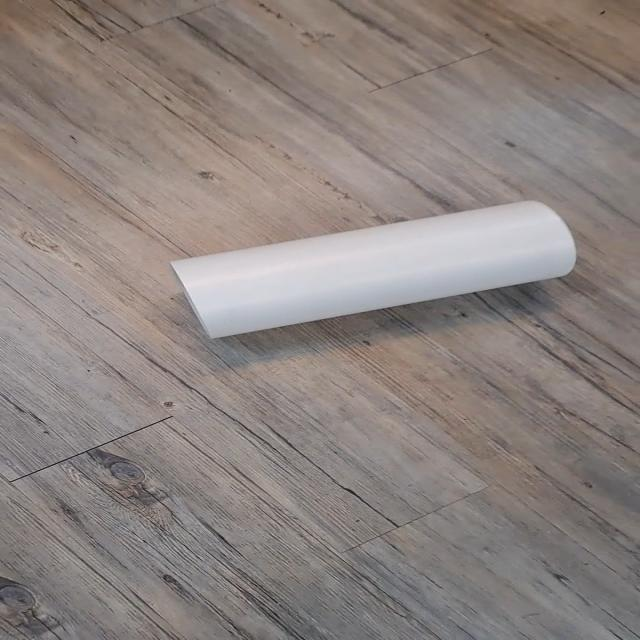CORAL: (149, 194, 589, 354)
